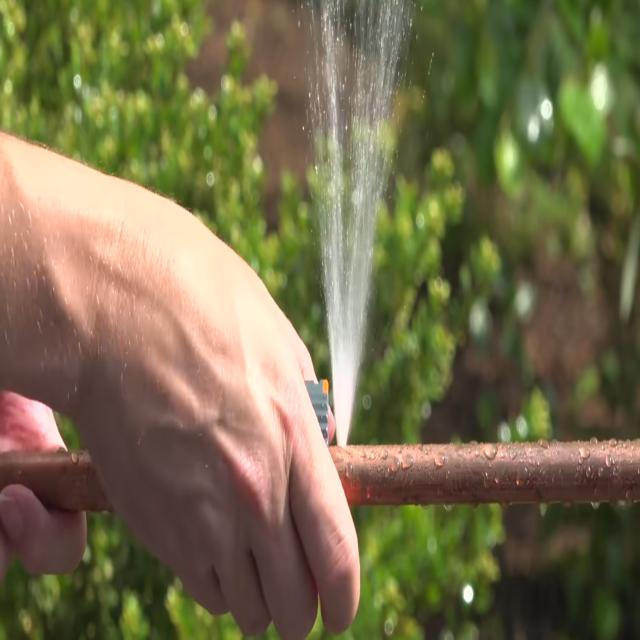leak: (303, 0, 419, 449)
